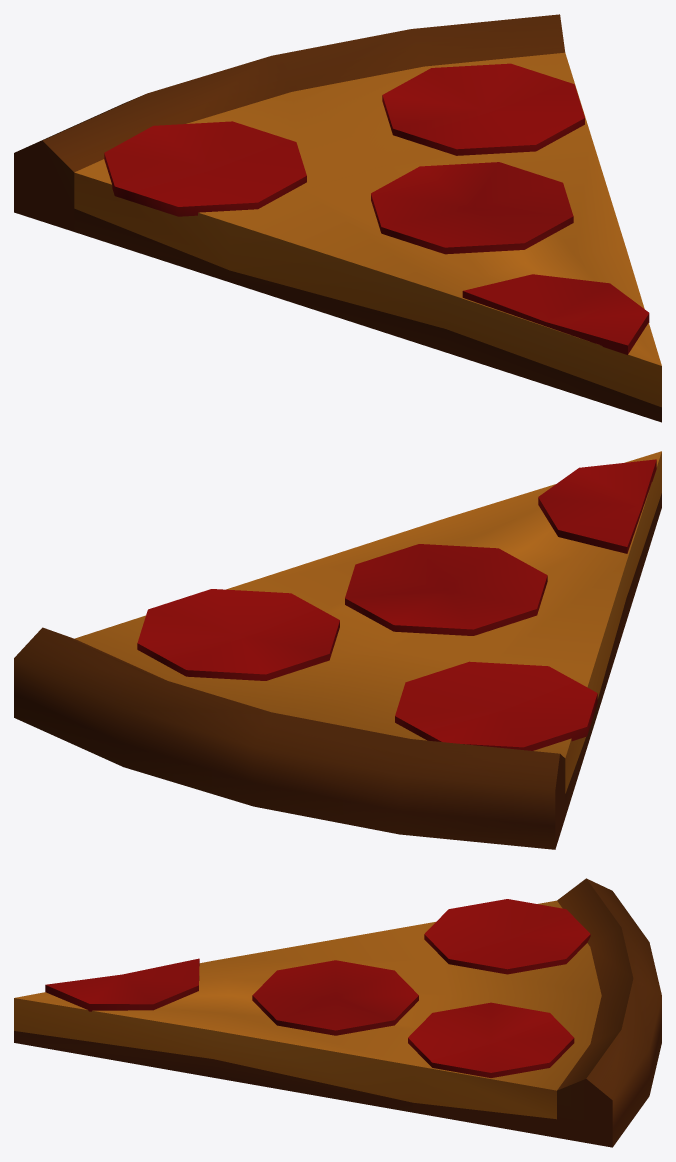
The model's file is Pizza_Slice.fbx.
3 views of the same model, one above another, from view 1: azimuth 30°, elevation 25°; view 2: azimuth 150°, elevation 25°; view 3: azimuth 270°, elevation 25° (orthographic). The views are drawn at different scales.
Parts seen in each view (by area): view 1: Pizza_Slice; view 2: Pizza_Slice; view 3: Pizza_Slice.
Part boxes in pixels (bbox=[...]): Pizza_Slice: bbox=[14, 14, 661, 422]; Pizza_Slice: bbox=[14, 451, 661, 849]; Pizza_Slice: bbox=[14, 878, 661, 1147].
Bounding box in the file's own units: 37.56 × 5.38 × 49.08.
